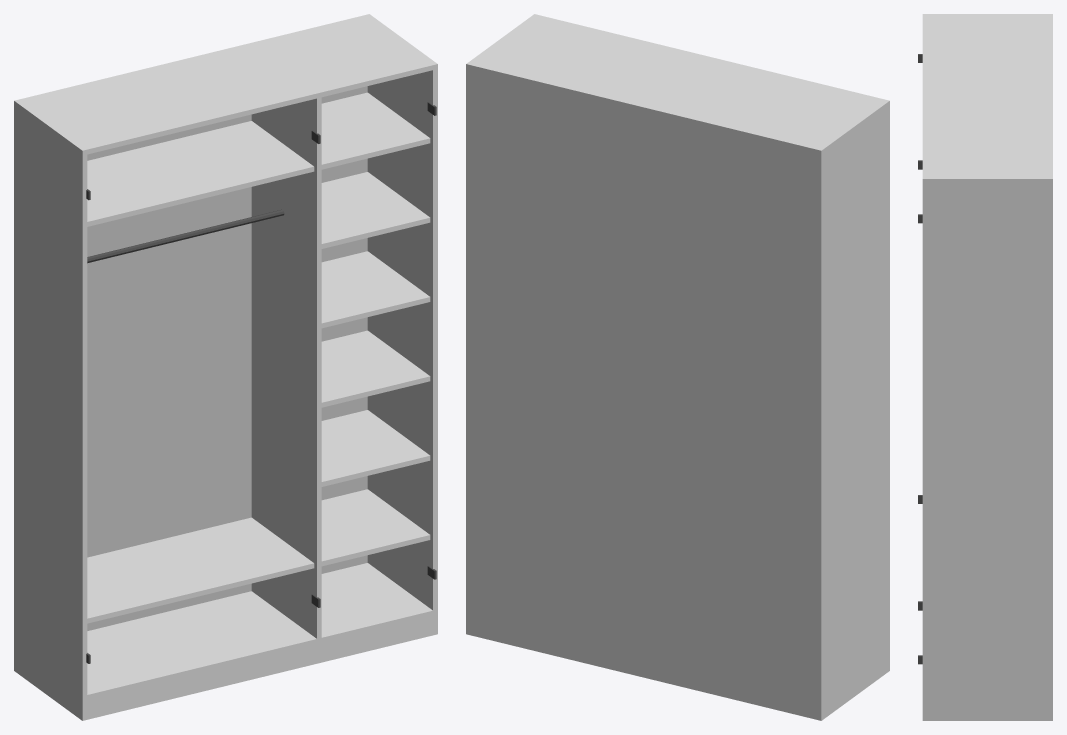
File: Wardrobe5_C1.fbx
3 views of the same model, side by side, from view 1: azimuth 30°, elevation 25°; view 2: azimuth 150°, elevation 25°; view 3: azimuth 270°, elevation 25° (orthographic). The views are drawn at different scales.
Parts seen in each view (by area): view 1: Wardrobe5_C1; view 2: Wardrobe5_C1; view 3: Wardrobe5_C1.
Boxes of the visible parts, bbox=[...] form: Wardrobe5_C1: bbox=[14, 14, 437, 720]; Wardrobe5_C1: bbox=[466, 14, 889, 720]; Wardrobe5_C1: bbox=[918, 14, 1052, 720].
Bounding box in the file's own units: 150 × 230 × 51.79.
